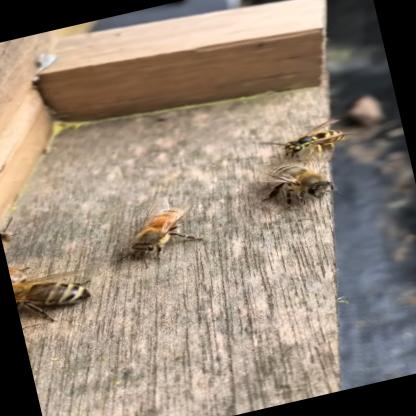bee: (0, 205, 94, 355), (98, 179, 222, 283), (233, 155, 340, 231)
hornet: (258, 107, 358, 162)
